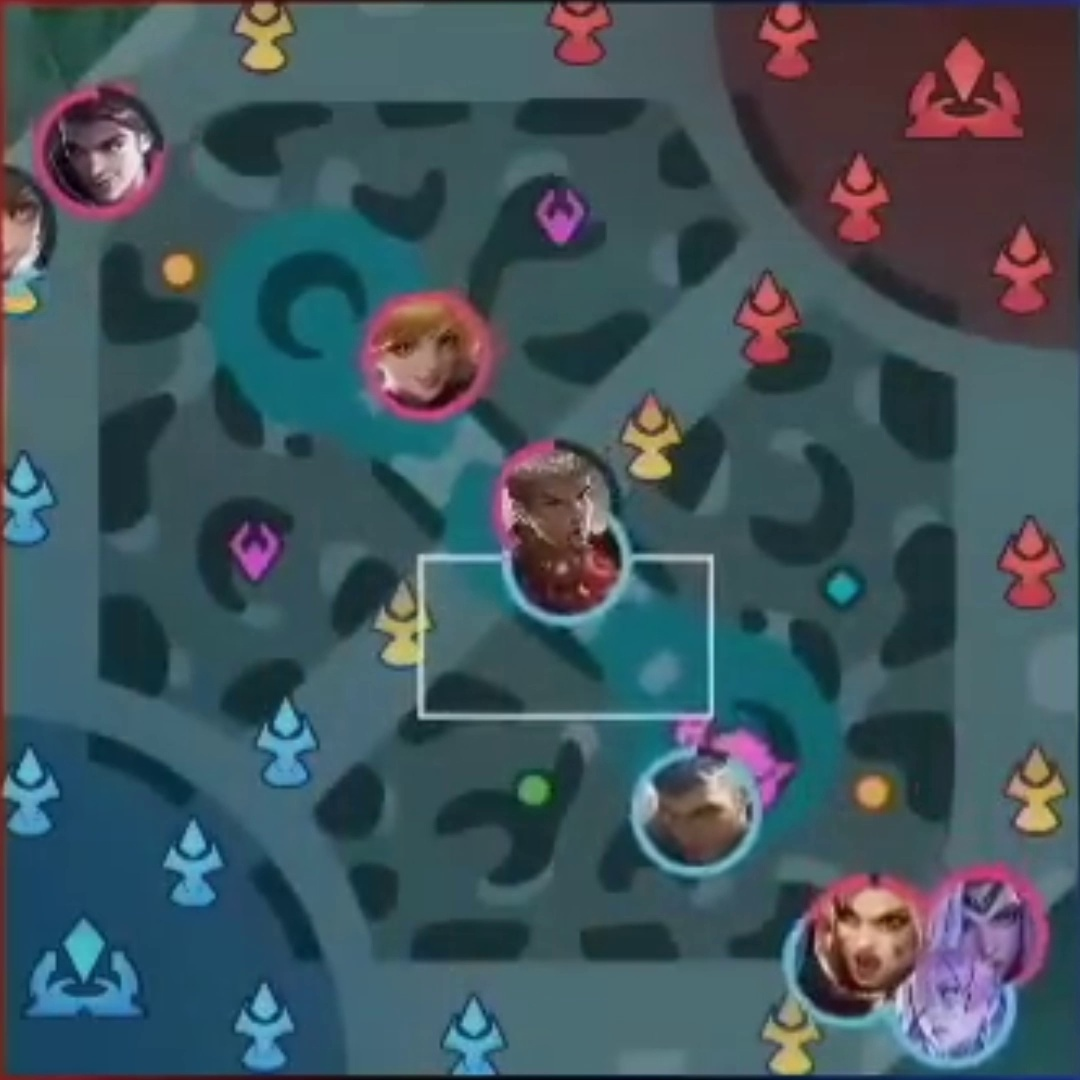Chou: (509, 458, 601, 547)
Claude: (52, 102, 150, 200)
Fanny: (375, 304, 477, 404)
Fredrinn: (649, 767, 751, 860)
Masha: (828, 888, 914, 987)
Minotaur: (522, 547, 609, 610)
Novaria: (900, 972, 999, 1047)
Valentina: (941, 892, 1028, 960)
Wanwan: (1, 174, 36, 272)
